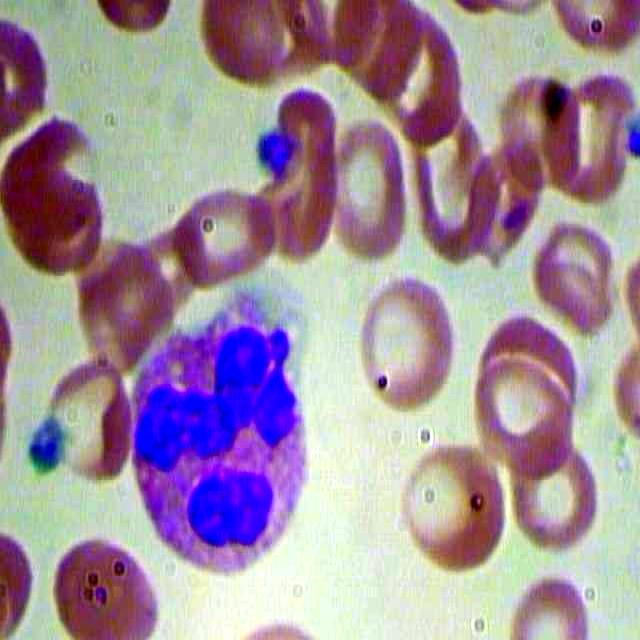RBC: (352, 276, 455, 416), (473, 332, 576, 472), (405, 441, 503, 572), (52, 526, 161, 640), (549, 65, 640, 200), (528, 208, 618, 339), (509, 423, 599, 553), (176, 176, 277, 284), (332, 120, 410, 257)
WBC: (120, 287, 315, 581)
